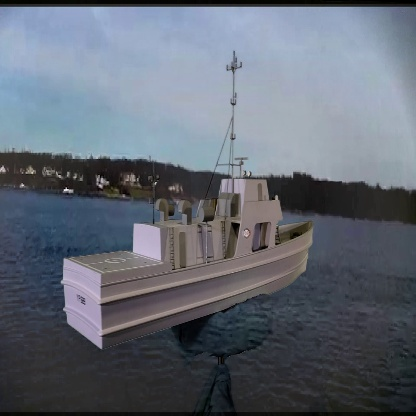YP689: (60, 39, 314, 355)
